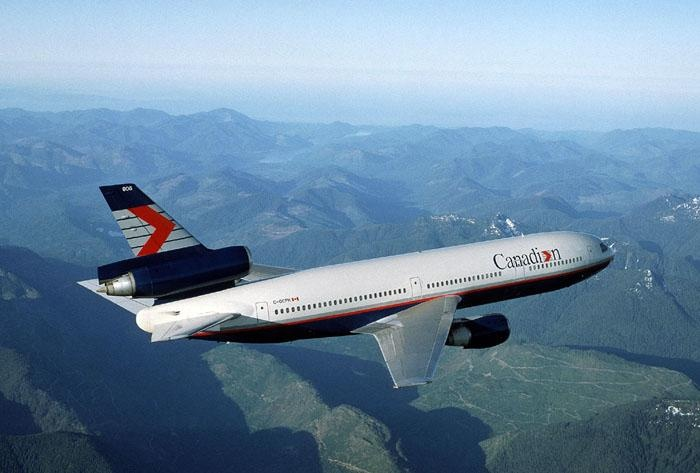airplane: (78, 181, 623, 388)
